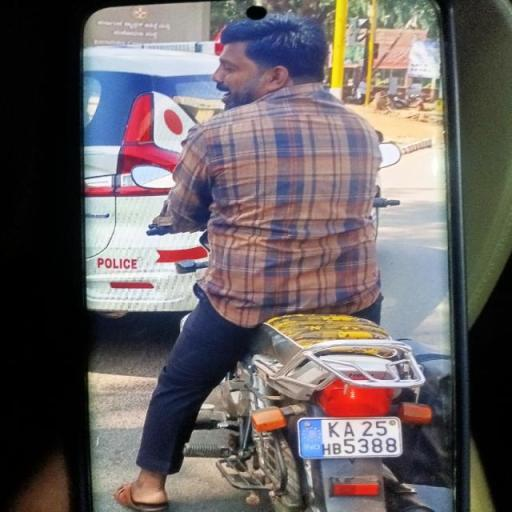bike: (92, 8, 477, 512)
numberplate: (296, 418, 402, 459)
withouthelmet: (222, 16, 324, 93)
